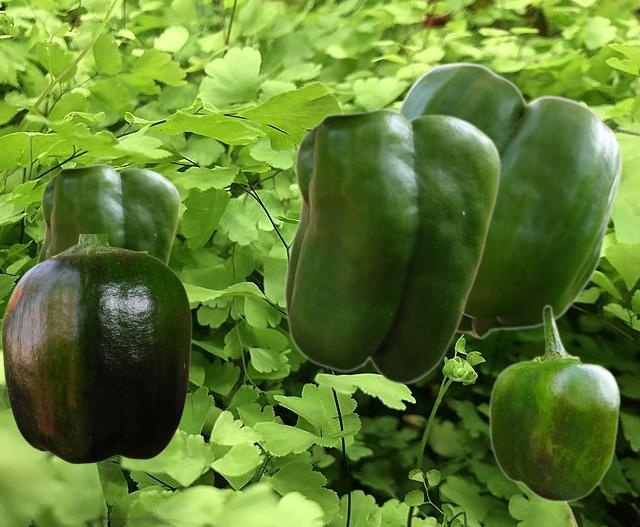bell_pepper: (397, 61, 621, 338), (283, 107, 501, 384), (1, 234, 191, 463), (488, 304, 620, 502), (36, 163, 180, 265)
